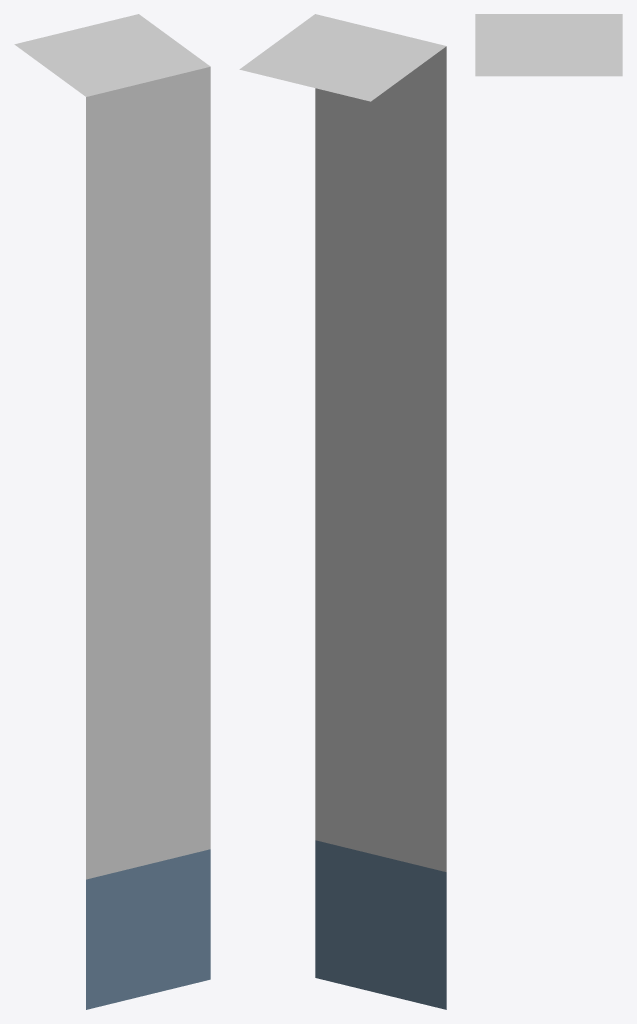
Rendered from M_Wall50White80-2.FBX.
The picture shows the model from 3 angles, left to right: view 1: azimuth 30°, elevation 25°; view 2: azimuth 150°, elevation 25°; view 3: azimuth 270°, elevation 25°; orthographic projection. The views are drawn at different scales.
Visible parts, largest first — view 1: M_Wall50White80-2; view 2: M_Wall50White80-2; view 3: M_Wall50White80-2.
Part boxes in pixels (x1=…): M_Wall50White80-2: x1=14, y1=14, x2=210, y2=1009; M_Wall50White80-2: x1=239, y1=14, x2=446, y2=1009; M_Wall50White80-2: x1=475, y1=14, x2=622, y2=76.
Size of the model in its own units: 0.5 by 3.5 by 0.5.
